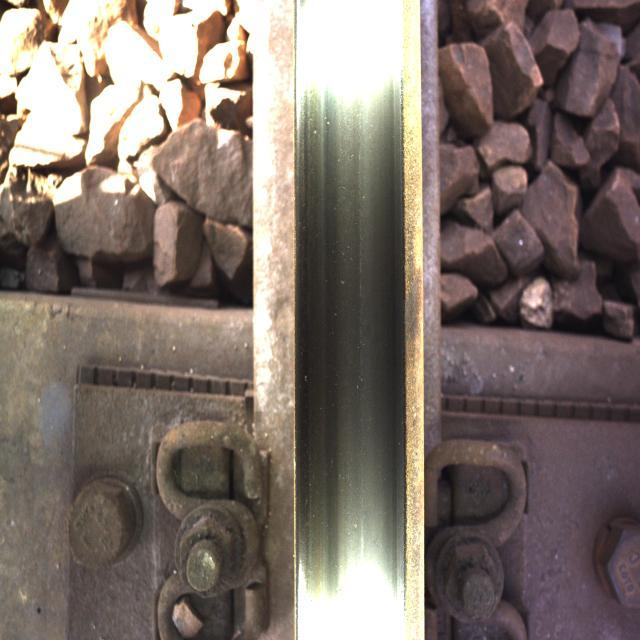break: (301, 36, 384, 602)
